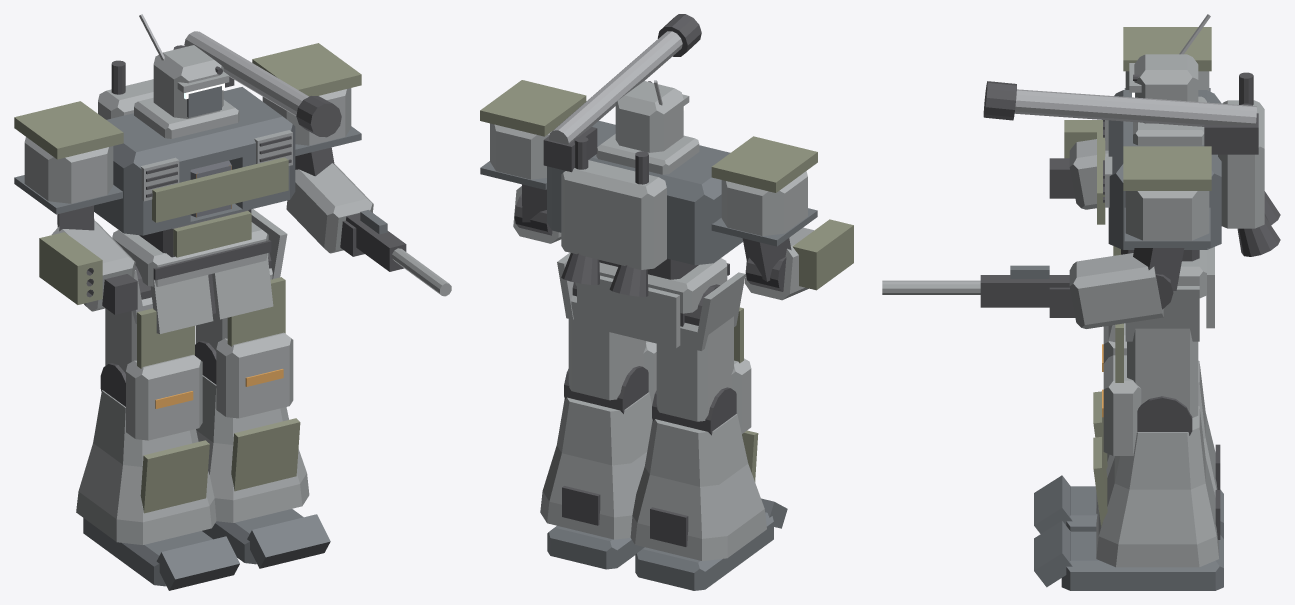
File: sapper.glb
3 renders of one model, left to right at view 1: azimuth 30°, elevation 25°; view 2: azimuth 150°, elevation 25°; view 3: azimuth 270°, elevation 25°, orthographic. The views are drawn at different scales.
Parts seen in each view (by area): view 1: chest, shin-1, shin1, kneepad1, kneepad-1, armor_chest, forearm1, shoulder-1, armor_pauldron-1, armor_shin1, armor_shin-1, armor_pauldron1 (+35 smaller); view 2: shin-1, shin1, backpack, chest, thigh-1, rskirt, thigh1, helmet, shoulder-1, armor_pauldron-1, armor_pauldron1, cannon (+28 smaller); view 3: shin1, cannon, forearm1, foot1, thigh1, shoulder1, armor_pauldron1, chest, backpack, kneepad1, armor_pauldron-1, helmet (+24 smaller).
Boxes of the visible parts, x1=… form: chest: x1=94, y1=87, x2=295, y2=235; shin-1: x1=76, y1=390, x2=216, y2=544; shin1: x1=196, y1=375, x2=309, y2=522; kneepad1: x1=216, y1=332, x2=293, y2=418; kneepad-1: x1=126, y1=354, x2=202, y2=440; armor_chest: x1=152, y1=157, x2=288, y2=222; forearm1: x1=286, y1=163, x2=373, y2=253; shoulder-1: x1=24, y1=137, x2=113, y2=203; armor_pauldron-1: x1=14, y1=101, x2=123, y2=159; armor_shin1: x1=231, y1=418, x2=300, y2=491; armor_shin-1: x1=140, y1=440, x2=209, y2=513; armor_pauldron1: x1=252, y1=43, x2=361, y2=96; shin-1: x1=630, y1=414, x2=766, y2=560; shin1: x1=540, y1=392, x2=652, y2=539; backpack: x1=561, y1=160, x2=666, y2=269; chest: x1=547, y1=121, x2=742, y2=265; thigh-1: x1=656, y1=316, x2=733, y2=421; rskirt: x1=577, y1=275, x2=680, y2=348; thigh1: x1=568, y1=295, x2=645, y2=400; helmet: x1=615, y1=81, x2=683, y2=152; shoulder-1: x1=721, y1=171, x2=807, y2=235; armor_pauldron-1: x1=711, y1=136, x2=817, y2=192; armor_pauldron1: x1=480, y1=80, x2=586, y2=136; cannon: x1=549, y1=31, x2=682, y2=144; shin1: x1=1096, y1=406, x2=1219, y2=567; cannon: x1=1014, y1=89, x2=1256, y2=126; forearm1: x1=1069, y1=253, x2=1163, y2=328; foot1: x1=1061, y1=531, x2=1223, y2=590; thigh1: x1=1127, y1=328, x2=1198, y2=417; shoulder1: x1=1125, y1=191, x2=1209, y2=240; armor_pauldron1: x1=1123, y1=146, x2=1211, y2=190; chest: x1=1108, y1=90, x2=1221, y2=249; backpack: x1=1218, y1=100, x2=1264, y2=228; kneepad1: x1=1103, y1=355, x2=1141, y2=455; armor_pauldron-1: x1=1123, y1=27, x2=1211, y2=71; helmet: x1=1134, y1=54, x2=1198, y2=123.
Size of the model in its own units: 15.11 by 23.44 by 16.2.
